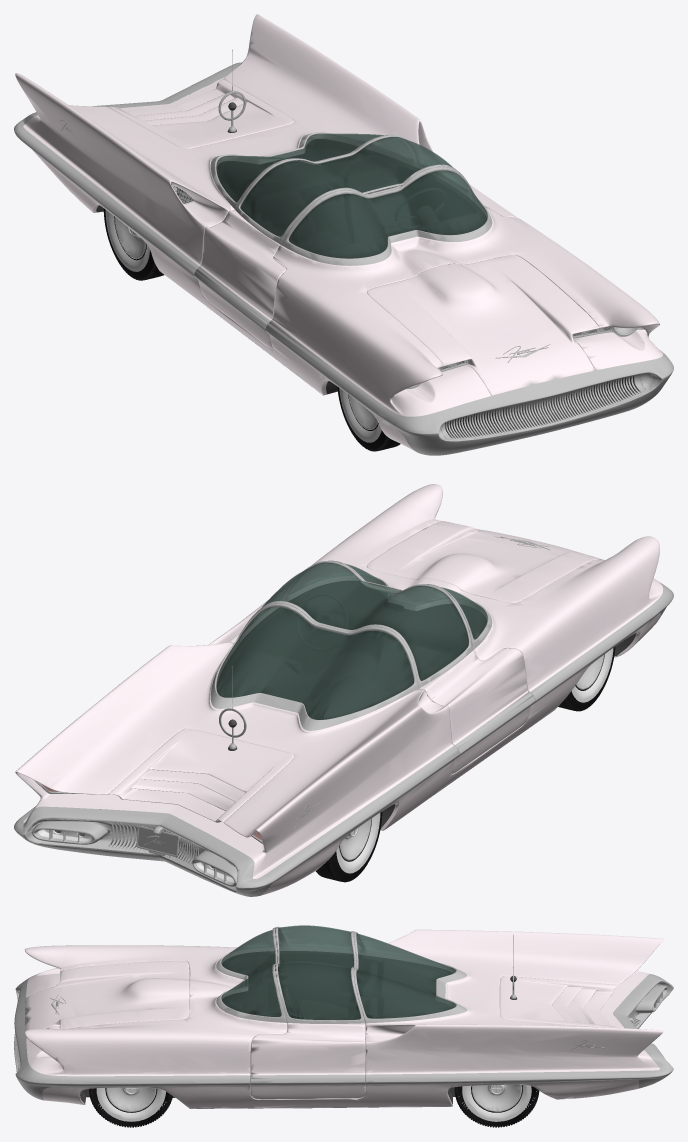
File: lincoln-futura.glb
The picture shows the model from 3 angles, top to bottom: view 1: azimuth 30°, elevation 25°; view 2: azimuth 150°, elevation 25°; view 3: azimuth 270°, elevation 25°; orthographic projection. The views are drawn at different scales.
Visible parts, largest first — view 1: Object_6, Object_50, Object_128, Object_74, Object_126, Object_44, Object_72, Object_40, Object_42, Object_122, Object_24, Object_70 (+1 smaller); view 2: Object_6, Object_74, Object_128, Object_50, Object_126, Object_44, Object_36, Object_54, Object_122, Object_46, Object_70, Object_124 (+3 smaller); view 3: Object_6, Object_50, Object_74, Object_128, Object_126, Object_44, Object_72, Object_122, Object_88, Object_86, Object_118, Object_114 (+4 smaller).
Part boxes in pixels (left/top/right/bottom): Object_6: left=15, top=14, right=662, bottom=450; Object_50: left=14, top=62, right=673, bottom=455; Object_128: left=216, top=133, right=487, bottom=258; Object_74: left=217, top=139, right=486, bottom=258; Object_126: left=240, top=137, right=467, bottom=236; Object_44: left=210, top=132, right=492, bottom=265; Object_72: left=251, top=166, right=410, bottom=251; Object_40: left=440, top=374, right=661, bottom=439; Object_42: left=445, top=375, right=641, bottom=438; Object_122: left=105, top=210, right=381, bottom=442; Object_24: left=445, top=376, right=638, bottom=435; Object_70: left=394, top=188, right=446, bottom=229; Object_6: left=15, top=484, right=663, bottom=895; Object_74: left=217, top=581, right=486, bottom=719; Object_128: left=216, top=563, right=487, bottom=719; Object_50: left=14, top=581, right=673, bottom=896; Object_126: left=244, top=562, right=468, bottom=680; Object_44: left=210, top=560, right=492, bottom=730; Object_36: left=26, top=819, right=236, bottom=890; Object_54: left=31, top=819, right=254, bottom=886; Object_122: left=336, top=648, right=613, bottom=873; Object_46: left=33, top=784, right=261, bottom=868; Object_70: left=296, top=593, right=370, bottom=651; Object_124: left=137, top=828, right=177, bottom=855; Object_6: left=25, top=929, right=663, bottom=1108; Object_50: left=14, top=974, right=673, bottom=1100; Object_74: left=222, top=951, right=453, bottom=1052; Object_128: left=221, top=930, right=455, bottom=1018; Object_126: left=278, top=925, right=360, bottom=1019; Object_44: left=216, top=926, right=467, bottom=1023; Object_72: left=256, top=962, right=376, bottom=1019; Object_122: left=96, top=1085, right=531, bottom=1121; Object_88: left=472, top=1083, right=521, bottom=1111; Object_86: left=106, top=1087, right=156, bottom=1111; Object_118: left=455, top=1085, right=538, bottom=1127; Object_114: left=89, top=1088, right=172, bottom=1127.
Size of what is drawn, in the model's own units: 219 by 146 by 579.
